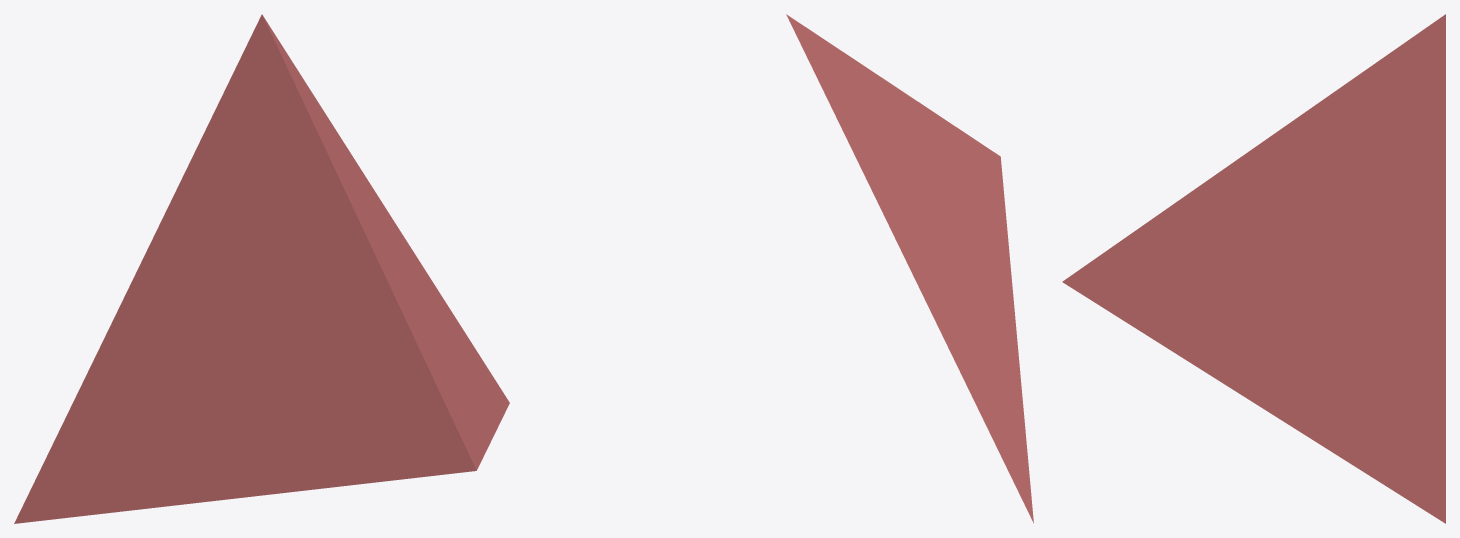
File: facility.glb
3 renders of one model, left to right at view 1: azimuth 30°, elevation 25°; view 2: azimuth 150°, elevation 25°; view 3: azimuth 270°, elevation 25°, orthographic. The views are drawn at different scales.
Size of the model in its own units: 2 by 1.73 by 1.5.
